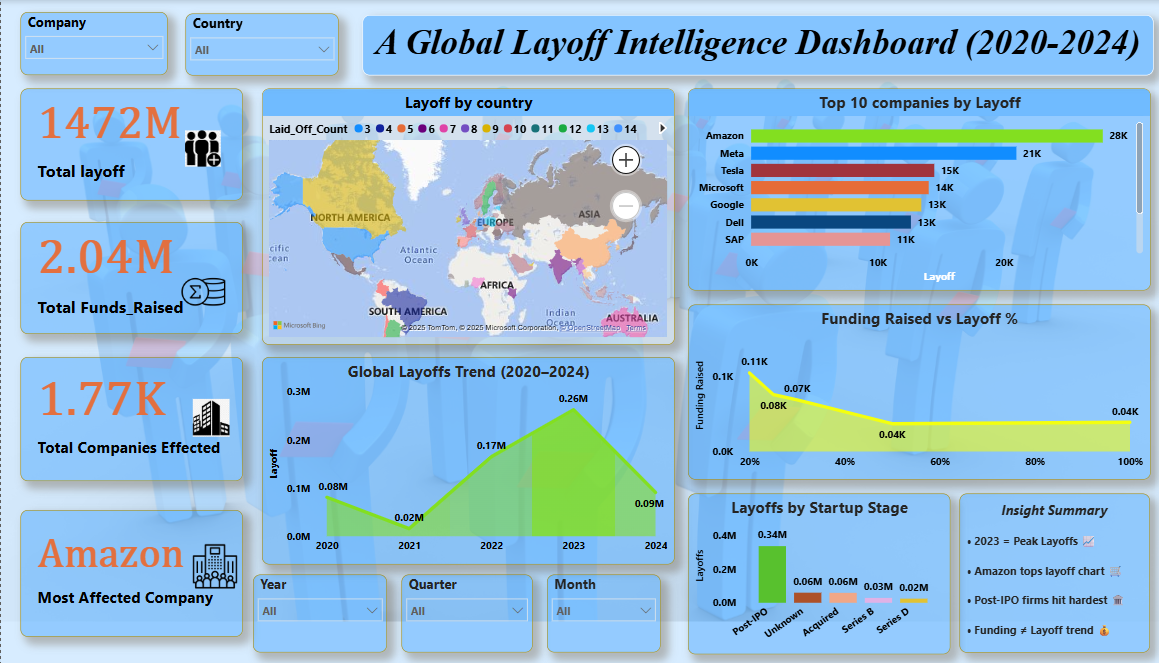

The dashboard page shown, as its layout file describes it:
{"tool":"powerbi","page":{"name":"A Global Layoff Intelligence Dashboard (2020-2024)","canvas":[1416,810],"ordinal":0},"visuals":[{"type":"cardVisual","fields":{"Data":["Sum(layoffs_data.total layoff)"]},"box":[23,106.6,269.7,135.9],"z":0},{"type":"image","box":[202.8,152.6,85.7,54.4],"z":1000},{"type":"cardVisual","fields":{"Data":["Sum(layoffs_data.Funds_Raised)"]},"box":[23.3,270.2,270.2,136],"z":2000},{"type":"image","box":[193.1,322.4,105.7,63.8],"z":3000},{"type":"cardVisual","fields":{"Data":["Count(layoffs_data.Company)"]},"box":[23,432.7,269.7,150.5],"z":4000},{"type":"image","box":[194.4,478.7,121.3,56.4],"z":5000},{"type":"cardVisual","fields":{"Data":["Min(layoffs_data.Company)"]},"box":[23.3,619.1,270.2,153.9],"z":6000},{"type":"lineChart","title":"Global Layoffs Trend (2020–2024)","fields":{"Category":["layoffs_data.Date.Variation.Date Hierarchy.Year"],"Y":["Sum(layoffs_data.Laid_Off_Count)"]},"box":[316.7,433,501,252.3],"z":8000},{"type":"filledMap","title":"Layoff by country","fields":{"Category":["layoffs_data.Country"],"Series":["layoffs_data.Laid_Off_Count"]},"box":[316.7,107.4,501,311.4],"z":9000},{"type":"clusteredBarChart","title":"Top 10 companies by Layoff","fields":{"Category":["layoffs_data.Company"],"Y":["Sum(layoffs_data.Laid_Off_Count)"]},"box":[833.9,107.4,561.9,245.2],"z":10000},{"type":"areaChart","title":"Funding Raised vs Layoff %","fields":{"Category":["layoffs_data.Percentage"],"Y":["Count(layoffs_data.Funds_Raised)"]},"box":[833.9,370.4,561.9,212.9],"z":11000},{"type":"columnChart","title":"Layoffs by Startup Stage","fields":{"Y":["Sum(layoffs_data.Laid_Off_Count)"],"Category":["layoffs_data.Stage"]},"box":[833.9,599.5,318.5,195],"z":12000},{"type":"slicer","fields":{"Values":["layoffs_data.Date.Variation.Date Hierarchy.Year"]},"box":[306,697.9,162.8,94.8],"z":13000},{"type":"slicer","fields":{"Values":["layoffs_data.Date.Variation.Date Hierarchy.Quarter"]},"box":[486.7,697.9,159.3,94.8],"z":14000},{"type":"slicer","fields":{"Values":["layoffs_data.Date.Variation.Date Hierarchy.Month"]},"box":[663.9,697.9,137.8,94.8],"z":15000},{"type":"textbox","box":[438.6,18.3,960.5,73.3],"z":16000},{"type":"slicer","fields":{"Values":["layoffs_data.Company"]},"box":[23.3,14.3,178.9,76.9],"z":17000},{"type":"slicer","fields":{"Values":["layoffs_data.Country"]},"box":[223.7,16.1,186.1,75.2],"z":18000},{"type":"textbox","box":[1164,599.3,231.3,193.1],"z":19000},{"type":"image","box":[225.9,648.5,67.4,78.3],"z":19001}]}

Visuals, with their boxes in screenshot pixels (x1, y1, x2, y2), scaled from the page's 1416x810 canvas onto the 1159x663 screenshot:
cardVisual - Sum(layoffs_data.total layoff): (left=19, top=87, right=240, bottom=198)
image: (left=166, top=125, right=236, bottom=169)
cardVisual - Sum(layoffs_data.Funds_Raised): (left=19, top=221, right=240, bottom=332)
image: (left=158, top=264, right=245, bottom=316)
cardVisual - Count(layoffs_data.Company): (left=19, top=354, right=240, bottom=477)
image: (left=159, top=392, right=258, bottom=438)
cardVisual - Min(layoffs_data.Company): (left=19, top=507, right=240, bottom=633)
"Global Layoffs Trend (2020–2024)" lineChart: (left=259, top=354, right=669, bottom=561)
"Layoff by country" filledMap: (left=259, top=88, right=669, bottom=343)
"Top 10 companies by Layoff" clusteredBarChart: (left=683, top=88, right=1142, bottom=289)
"Funding Raised vs Layoff %" areaChart: (left=683, top=303, right=1142, bottom=477)
"Layoffs by Startup Stage" columnChart: (left=683, top=491, right=943, bottom=650)
slicer - layoffs_data.Date.Variation.Date Hierarchy.Year: (left=250, top=571, right=384, bottom=649)
slicer - layoffs_data.Date.Variation.Date Hierarchy.Quarter: (left=398, top=571, right=529, bottom=649)
slicer - layoffs_data.Date.Variation.Date Hierarchy.Month: (left=543, top=571, right=656, bottom=649)
textbox: (left=359, top=15, right=1145, bottom=75)
slicer - layoffs_data.Company: (left=19, top=12, right=166, bottom=75)
slicer - layoffs_data.Country: (left=183, top=13, right=335, bottom=75)
textbox: (left=953, top=491, right=1142, bottom=649)
image: (left=185, top=531, right=240, bottom=595)
